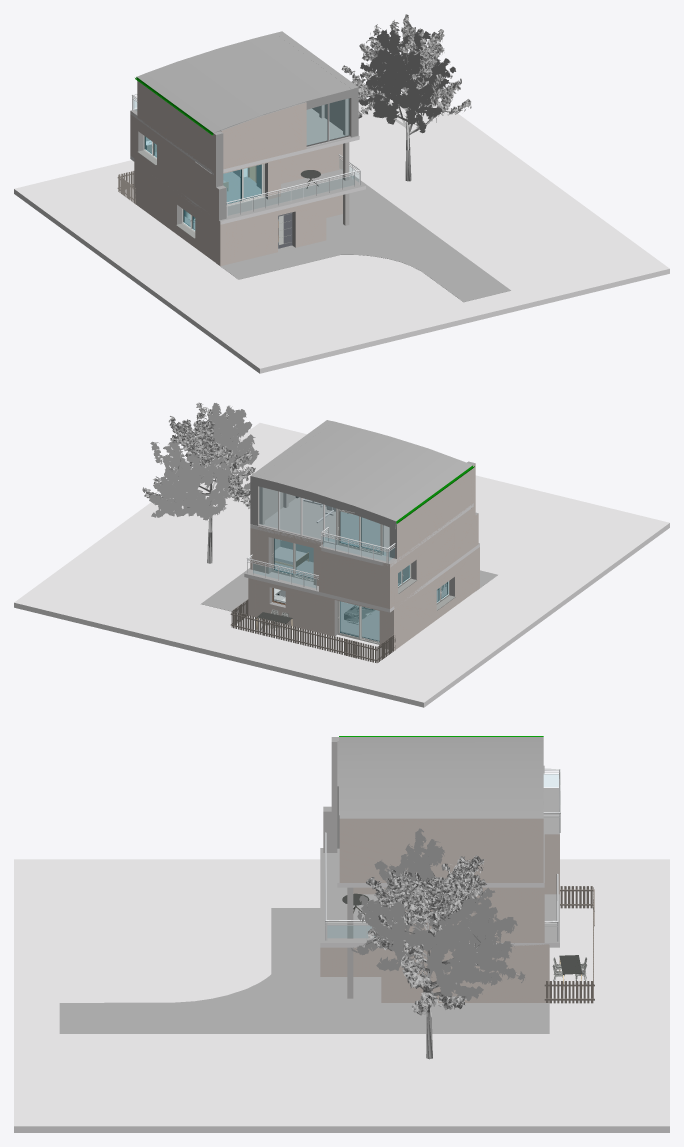
File: house.glb
The picture shows the model from 3 angles, top to bottom: view 1: azimuth 30°, elevation 25°; view 2: azimuth 150°, elevation 25°; view 3: azimuth 270°, elevation 25°; orthographic projection. The views are drawn at different scales.
Visible parts, largest first — view 1: Wall Murs <155545 mur ext<, FamilyInstance Portes Doors_GEALAN_Smoovio_Sliding-Door_Plan; view 2: Wall Murs <155545 mur ext<, FamilyInstance Portes Doors_GEALAN_Smoovio_Sliding-Door_Plan; view 3: Wall Murs <155545 mur ext<.
Boxes of the visible parts, <box> form: Wall Murs <155545 mur ext<: <box>14,14,669,373</box>; FamilyInstance Portes Doors_GEALAN_Smoovio_Sliding-Door_Plan: <box>134,101,353,229</box>; Wall Murs <155545 mur ext<: <box>14,402,669,707</box>; FamilyInstance Portes Doors_GEALAN_Smoovio_Sliding-Door_Plan: <box>274,512,448,640</box>; Wall Murs <155545 mur ext<: <box>14,736,669,1132</box>.
Bounding box in the file's own units: 25794 × 9890 × 26781.
2 materials, 2 textured.
